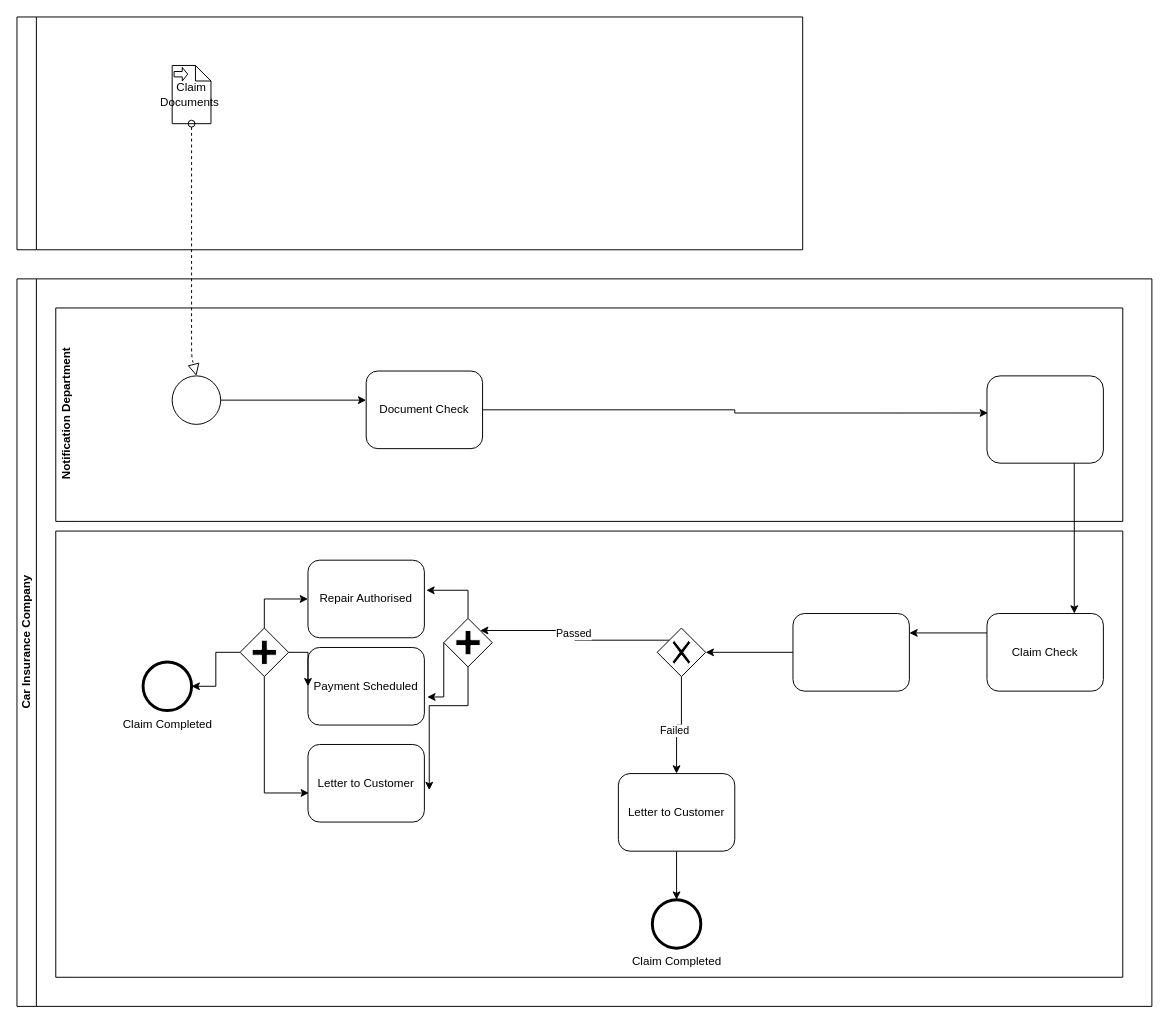
This 1169x1023 diagram has some shape labels left out. Here are the shapes that lost their labels. From the top down, the box of each, then its label:
(16, 16, 803, 250): Customer
(171, 375, 221, 424): Claim Submitted
(986, 375, 1103, 463): Claim Register
(792, 613, 909, 691): Assessment
(55, 530, 1123, 977): Handling Department
